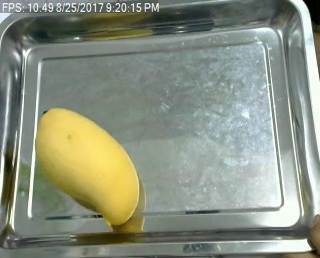Mango: (31, 101, 142, 226)
